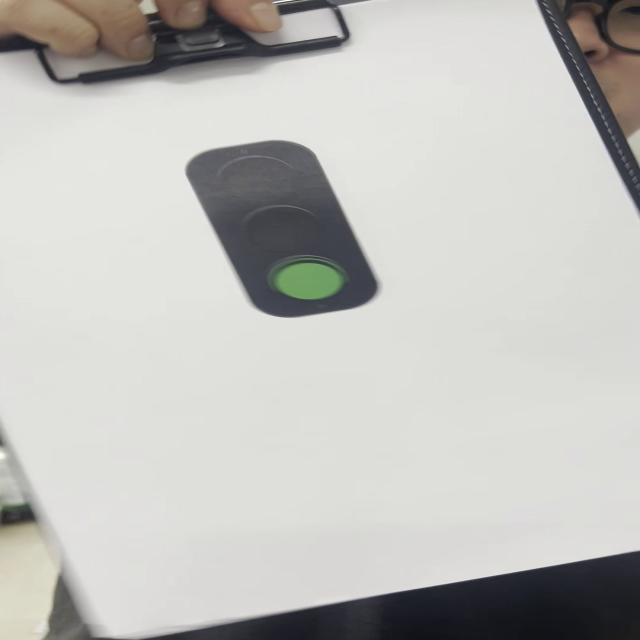green: (179, 142, 382, 318)
